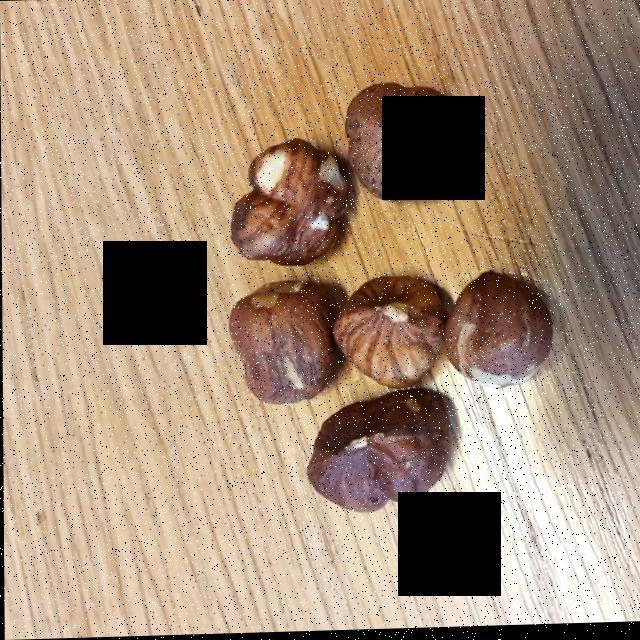hazelnut: (224, 88, 558, 517)
